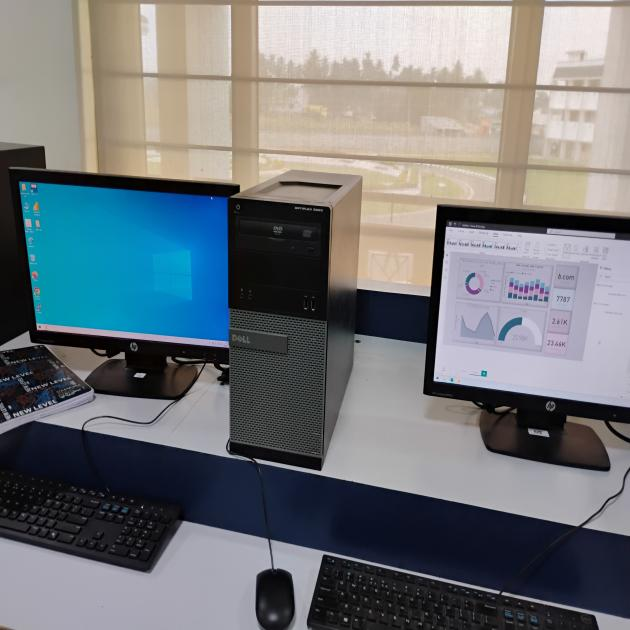computer: (6, 147, 230, 409)
cpu: (229, 162, 373, 476)
keyboard: (0, 453, 200, 593), (320, 541, 629, 630)
mouse: (247, 548, 301, 630)
